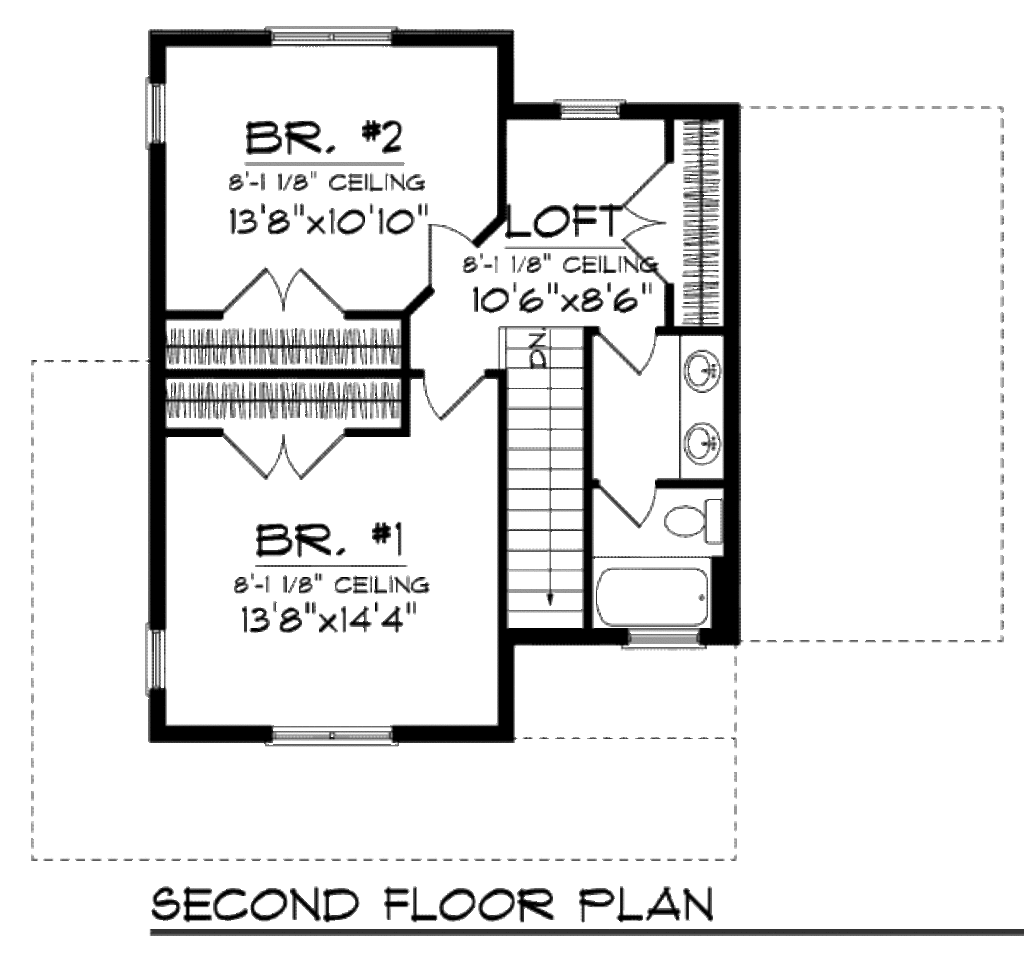door: (215, 263, 353, 326), (224, 418, 351, 484), (611, 162, 679, 284), (591, 466, 660, 530), (597, 317, 664, 381), (418, 223, 481, 290), (418, 363, 482, 420)
large_sink: (660, 492, 726, 556)
small_sink: (673, 332, 724, 478)
stairs: (491, 324, 597, 629)
tub: (591, 568, 712, 636)
window: (266, 17, 400, 48), (267, 723, 390, 750), (626, 626, 703, 653), (559, 92, 623, 123), (145, 74, 172, 147), (147, 619, 169, 699)
